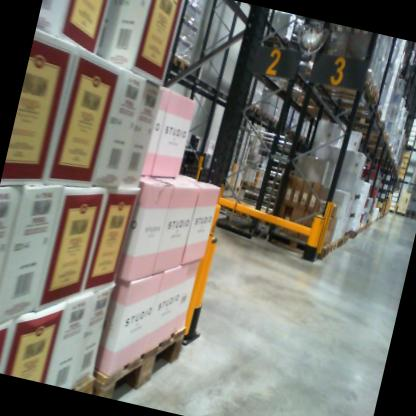pallet: (88, 308, 192, 413), (308, 55, 378, 97), (266, 225, 332, 265), (317, 76, 384, 114), (334, 96, 390, 128), (286, 90, 332, 117), (72, 369, 99, 394), (166, 51, 193, 70), (325, 235, 341, 256), (242, 102, 262, 116), (332, 235, 346, 253), (336, 230, 350, 246)
